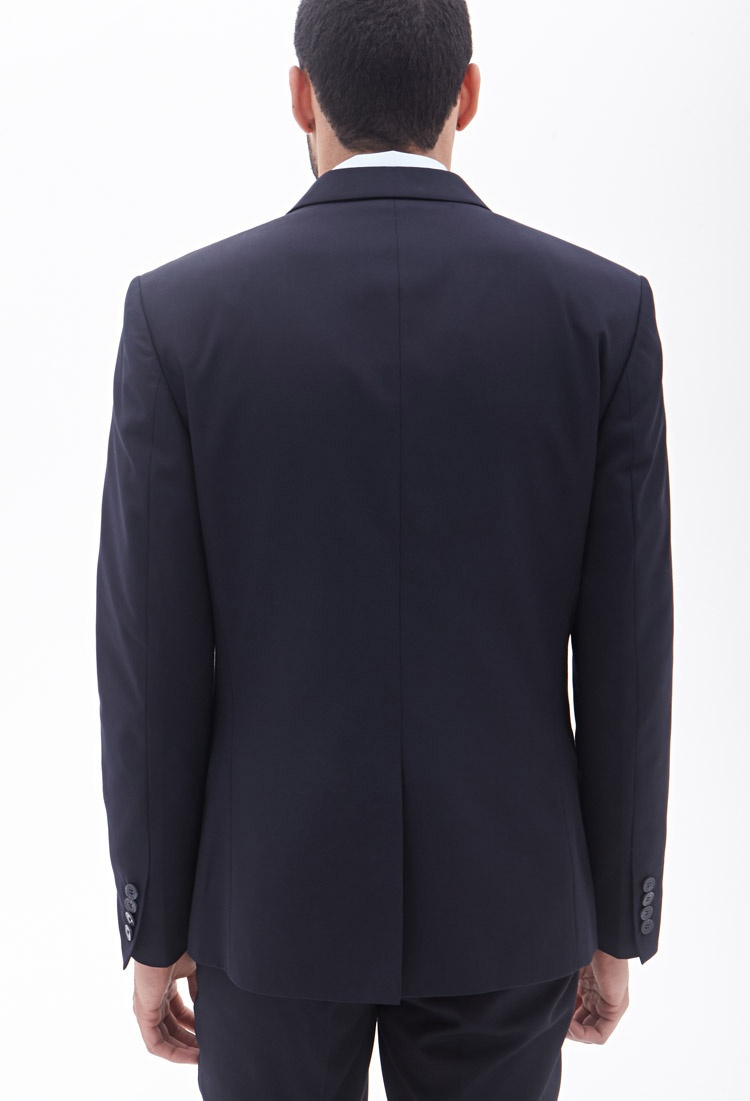F_M_suit jacket: (76, 175, 671, 993)
